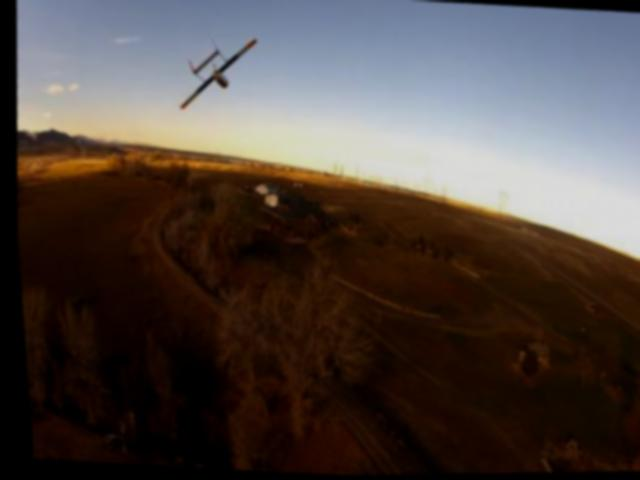uav: (170, 29, 260, 117)
